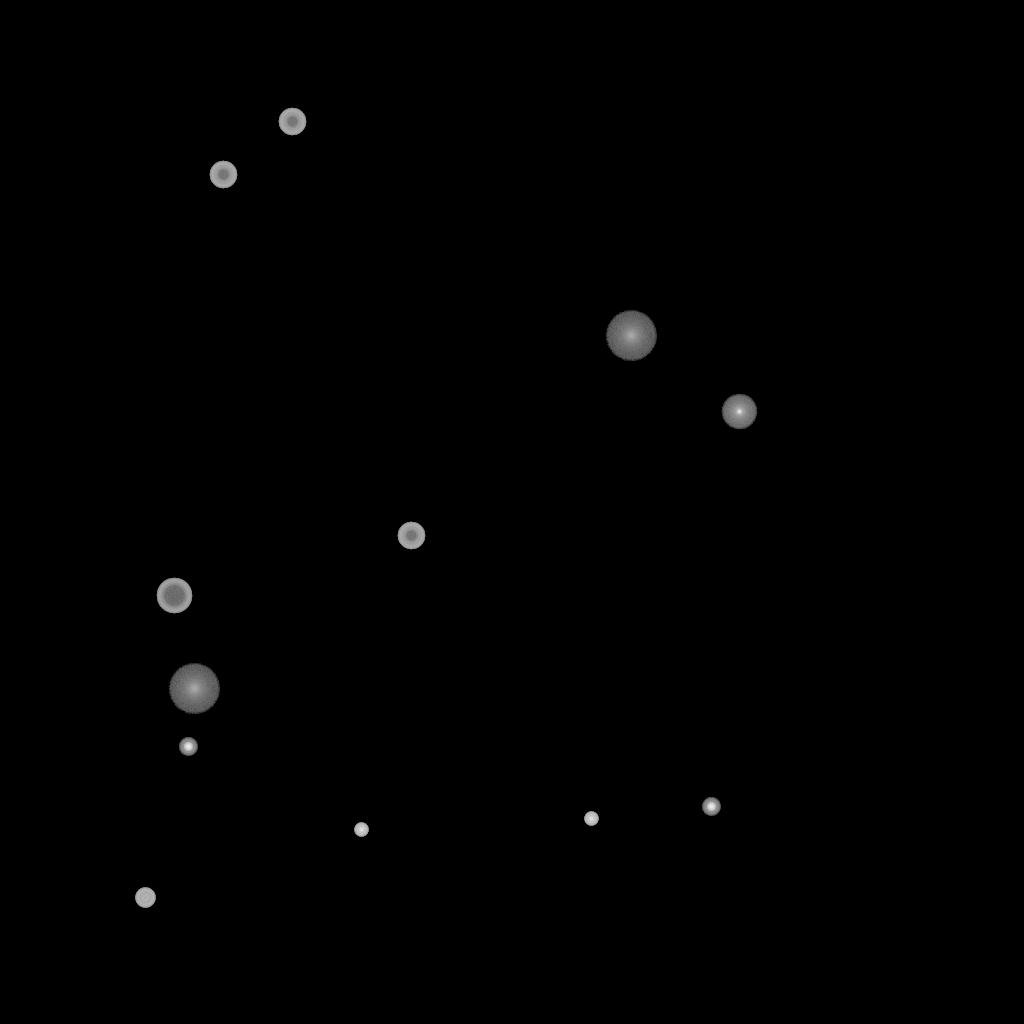depth:-20: (179, 738, 197, 756), (702, 798, 720, 816)
depth:-30: (584, 812, 598, 826), (354, 823, 368, 837)
depth:-40: (135, 888, 155, 908)
depth:-50: (278, 108, 306, 136), (209, 161, 237, 189), (397, 522, 425, 550)
depth:-60: (156, 578, 192, 614)
depth:0: (721, 394, 757, 430)
depth:20: (168, 664, 220, 714), (605, 311, 657, 361)
